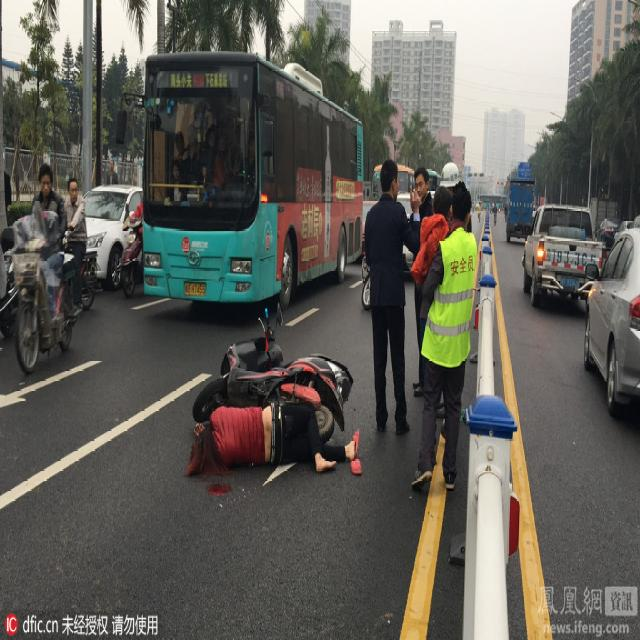10-: (1, 49, 506, 535)
down: (175, 379, 368, 508)
